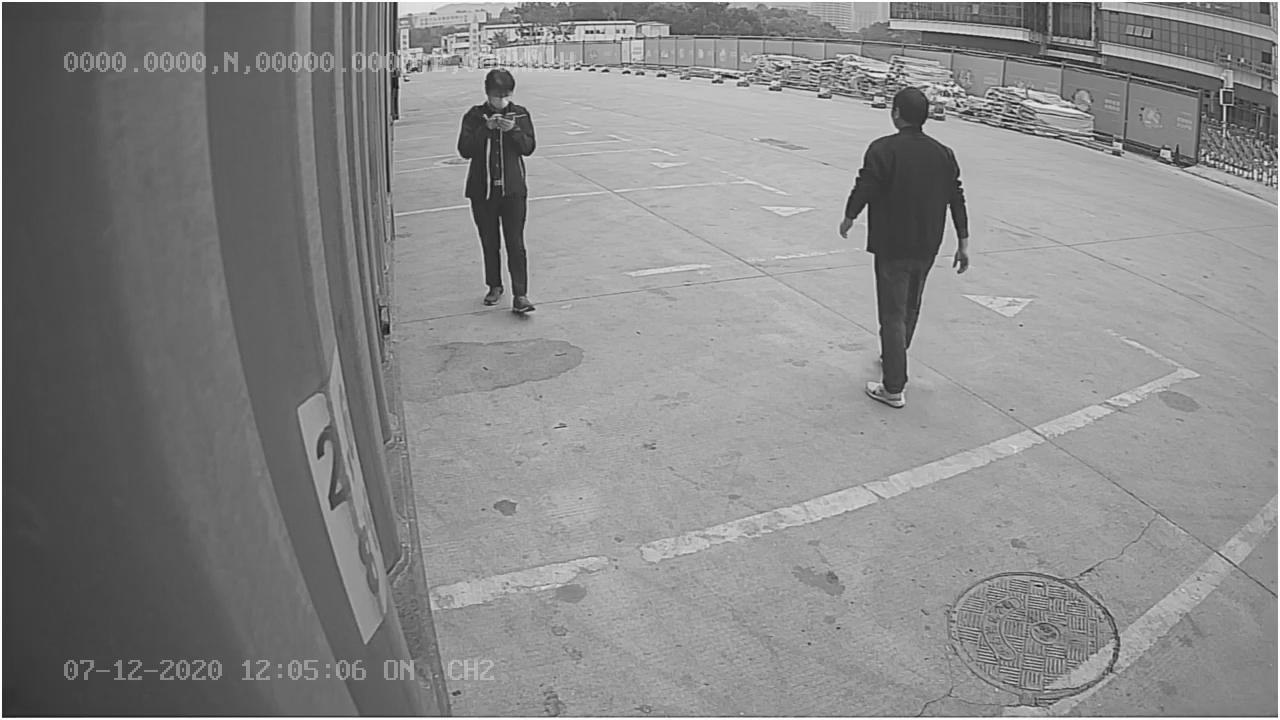person: (830, 83, 975, 414), (457, 69, 541, 312)
